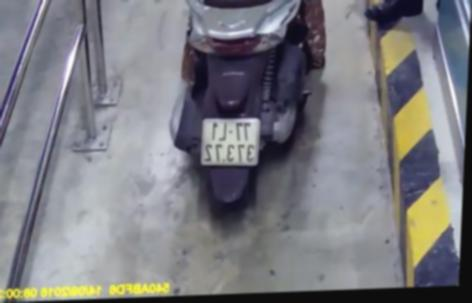License_Plate: (196, 113, 266, 174)
